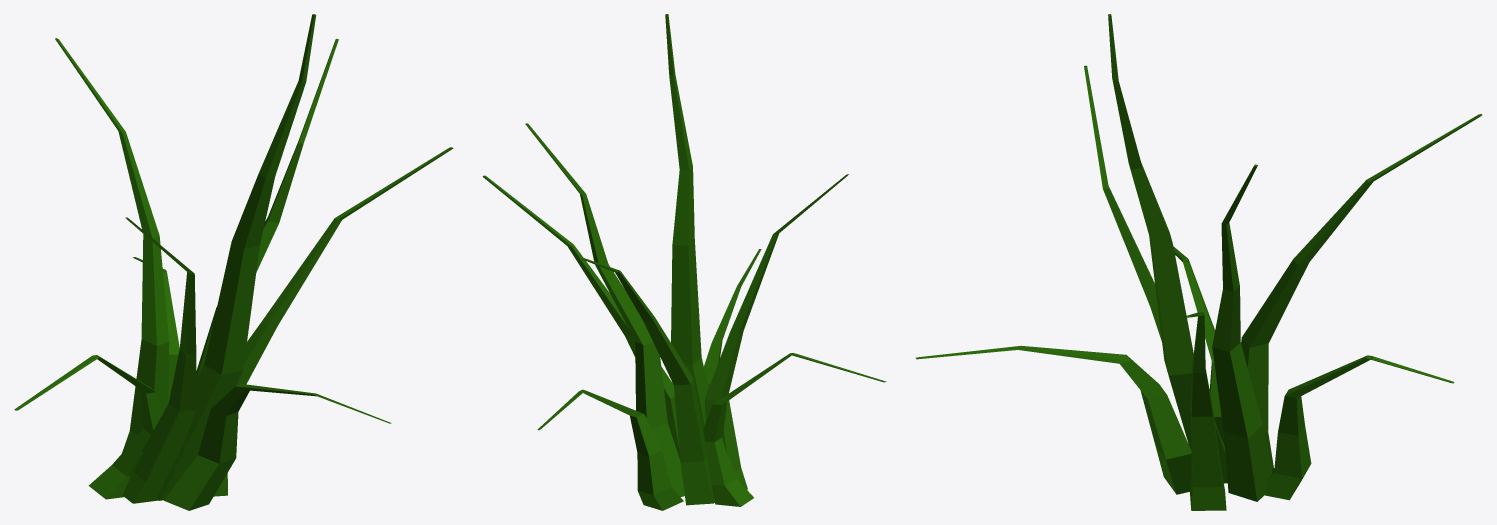
The model's file is Grass 2.fbx.
3 views of the same model, side by side, from view 1: azimuth 30°, elevation 25°; view 2: azimuth 150°, elevation 25°; view 3: azimuth 270°, elevation 25° (orthographic). The views are drawn at different scales.
Parts seen in each view (by area): view 1: Tall Grass.847; view 2: Tall Grass.847; view 3: Tall Grass.847.
Part boxes in pixels (x1=…): Tall Grass.847: x1=14, y1=14, x2=453, y2=510; Tall Grass.847: x1=482, y1=14, x2=886, y2=510; Tall Grass.847: x1=915, y1=14, x2=1482, y2=510.
Size of the model in its own units: 83.64 by 87.83 by 86.74.
